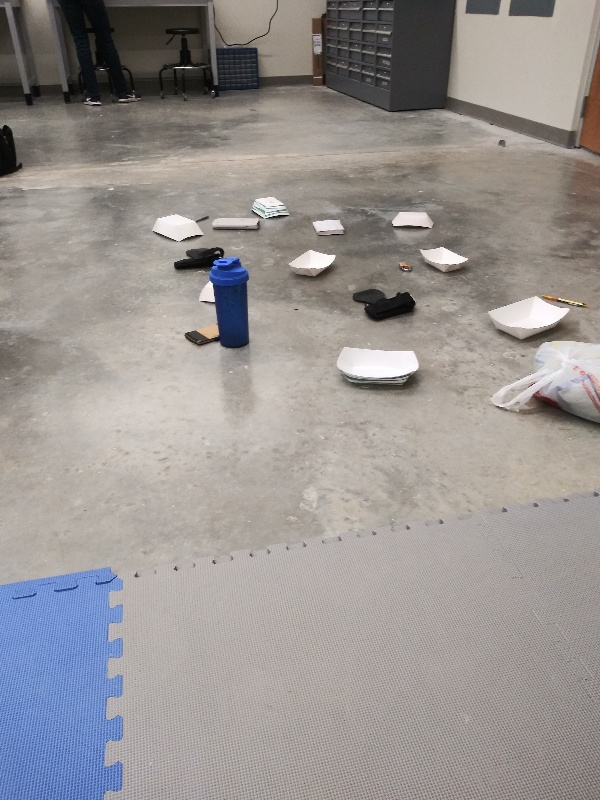plate: (484, 293, 576, 344), (332, 344, 422, 392), (146, 213, 209, 245), (416, 244, 475, 278), (284, 248, 338, 280), (248, 193, 294, 221), (386, 208, 438, 230), (193, 277, 214, 306)
